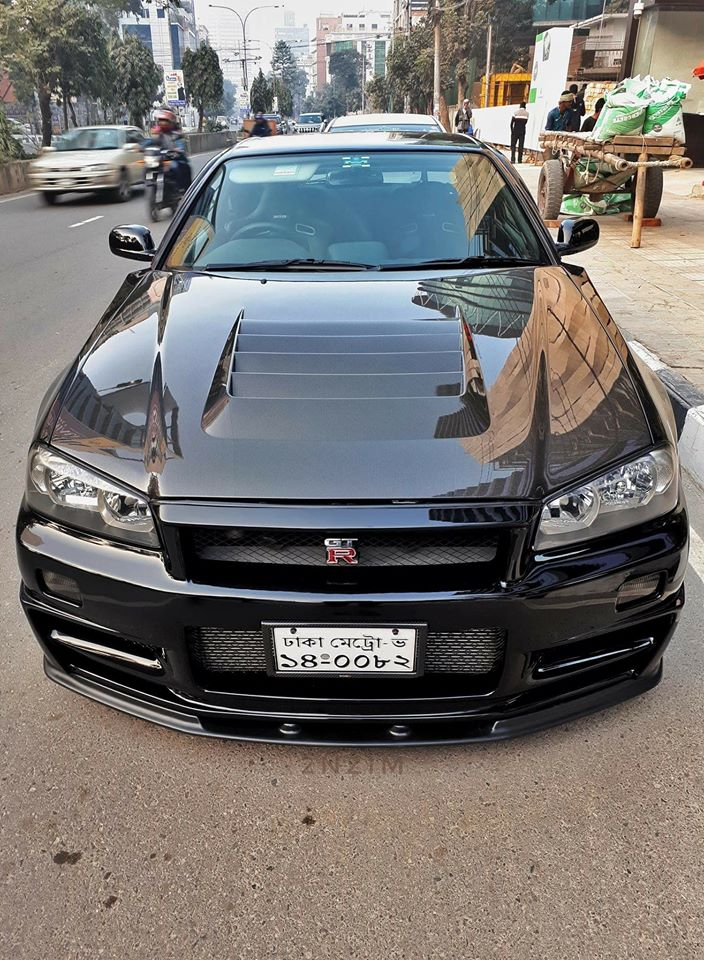registration_plate: (272, 626, 415, 672)
